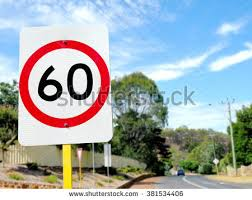Speed_limit_60km: (18, 39, 110, 127)
